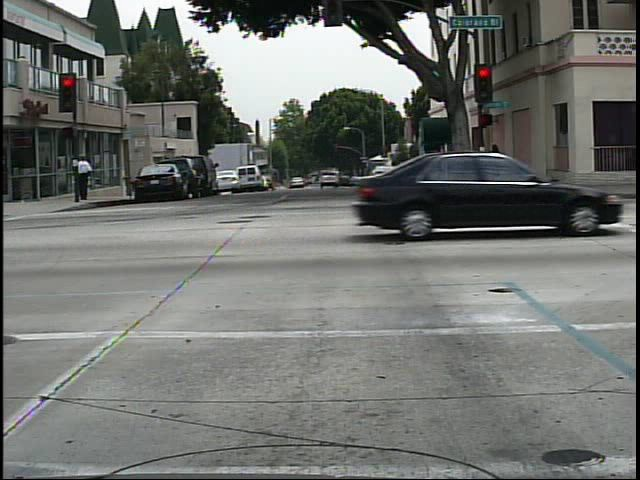person: (481, 138, 511, 191), (79, 148, 99, 203)
